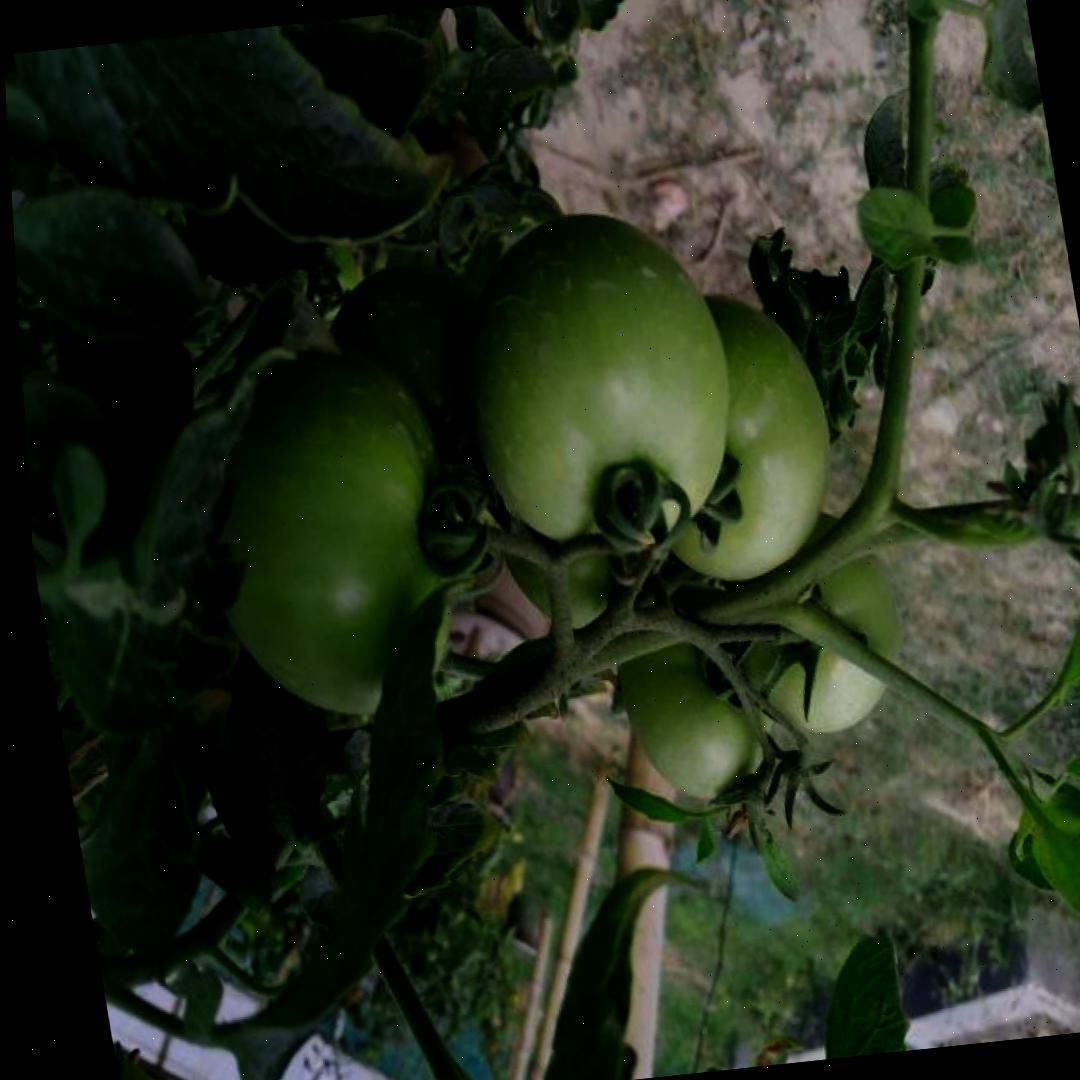mentah: (170, 324, 489, 735), (433, 196, 755, 564), (595, 565, 803, 812)
